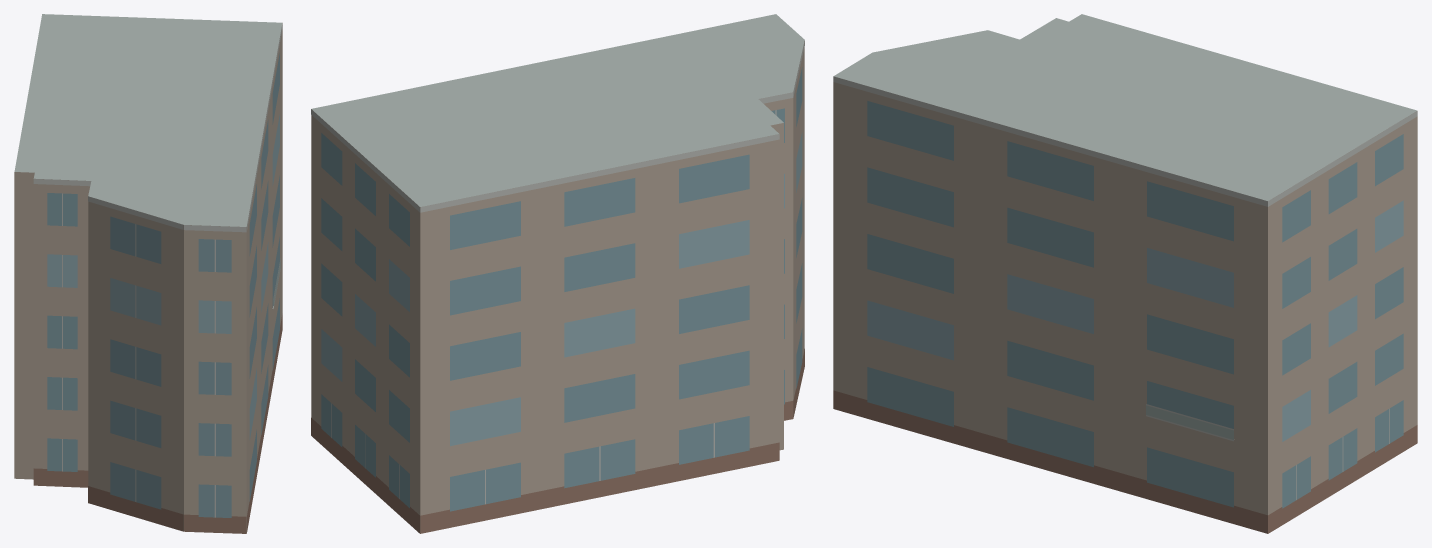
File: survey-upis-32718559.glb
3 views of the same model, side by side, from view 1: azimuth 30°, elevation 25°; view 2: azimuth 150°, elevation 25°; view 3: azimuth 270°, elevation 25° (orthographic). The views are drawn at different scales.
Visible parts, largest first — view 1: survey-upis-32718559.tmp; view 2: survey-upis-32718559.tmp; view 3: survey-upis-32718559.tmp.
Part boxes in pixels (x1,y1,x2,y2): survey-upis-32718559.tmp: (14, 14, 282, 533); survey-upis-32718559.tmp: (311, 14, 804, 533); survey-upis-32718559.tmp: (833, 14, 1417, 533).
Size of the model in its own units: 17.15 by 14.2 by 22.61.
